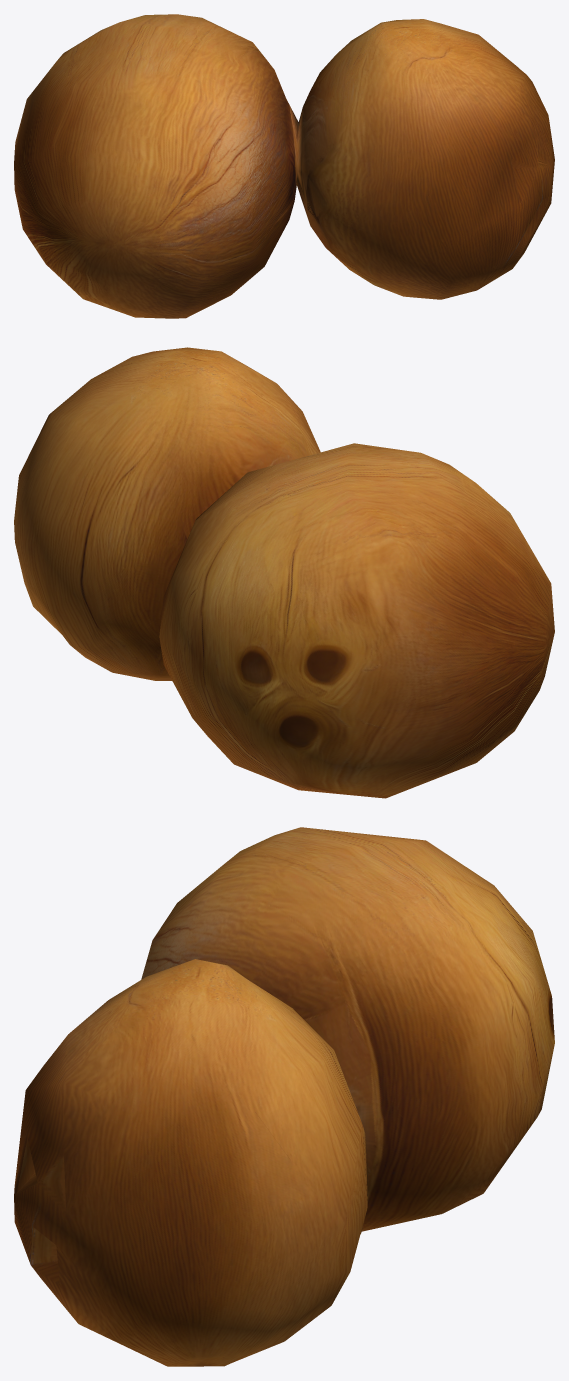
File: Coconut.glb
3 renders of one model, top to bottom at view 1: azimuth 30°, elevation 25°; view 2: azimuth 150°, elevation 25°; view 3: azimuth 270°, elevation 25°, orthographic. The views are drawn at different scales.
Bounding box in the file's own units: 1.9 × 1.06 × 1.42.
Materials: 1 (1 with a texture image).
